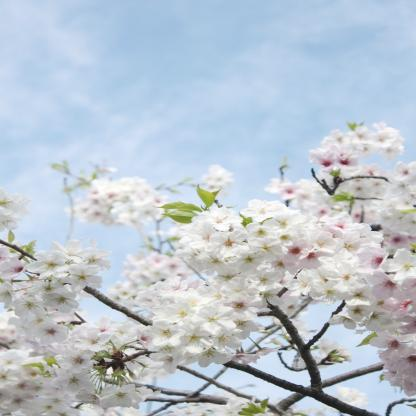OshimaSakura: (0, 120, 416, 416)
